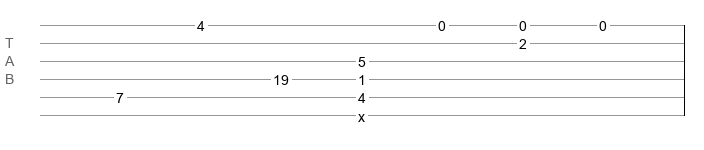0: (438, 18, 446, 28), (519, 18, 527, 28), (599, 18, 607, 28)
1: (358, 72, 366, 82)
19: (273, 72, 289, 82)
2: (519, 36, 527, 46)
4: (197, 18, 205, 28), (358, 90, 366, 100)
5: (358, 54, 366, 64)
7: (116, 90, 124, 100)
x: (358, 109, 365, 117)
